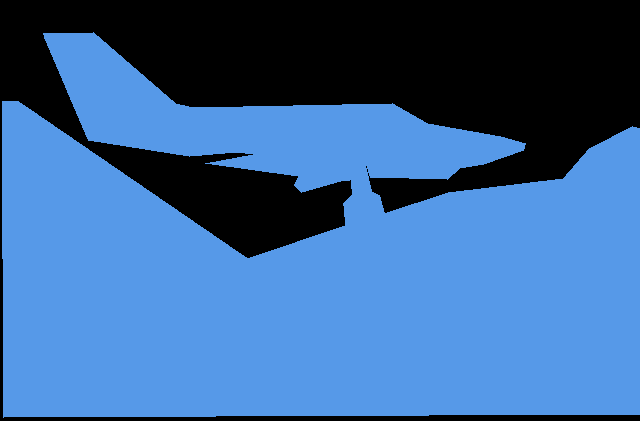Airplane: (2, 101, 640, 417), (43, 32, 525, 192)
